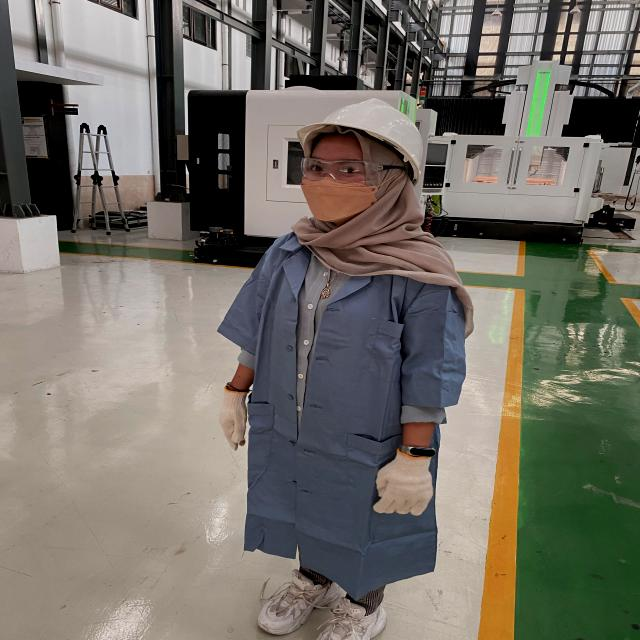face_mask: (296, 153, 382, 225)
glasses: (297, 154, 407, 183)
hand_glove: (370, 447, 442, 518), (208, 384, 260, 454)
head_helmet: (295, 97, 430, 162)
person: (212, 98, 484, 640)
shoes: (251, 560, 360, 638), (306, 587, 395, 640)
